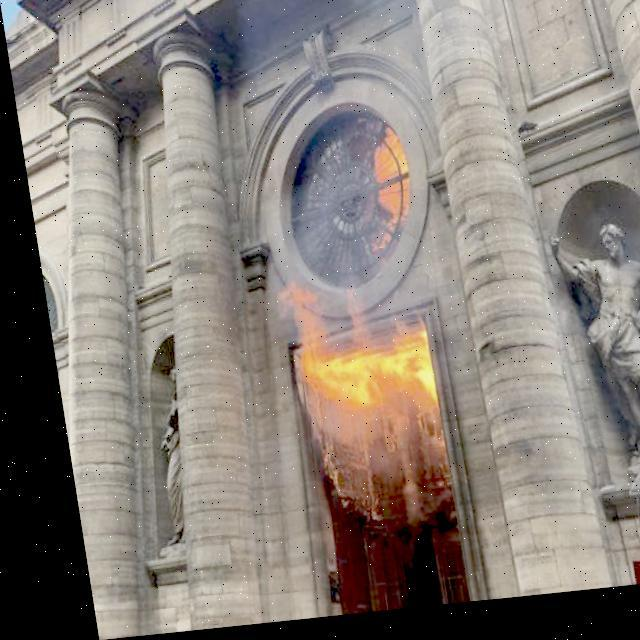Fire: (242, 120, 442, 492)
